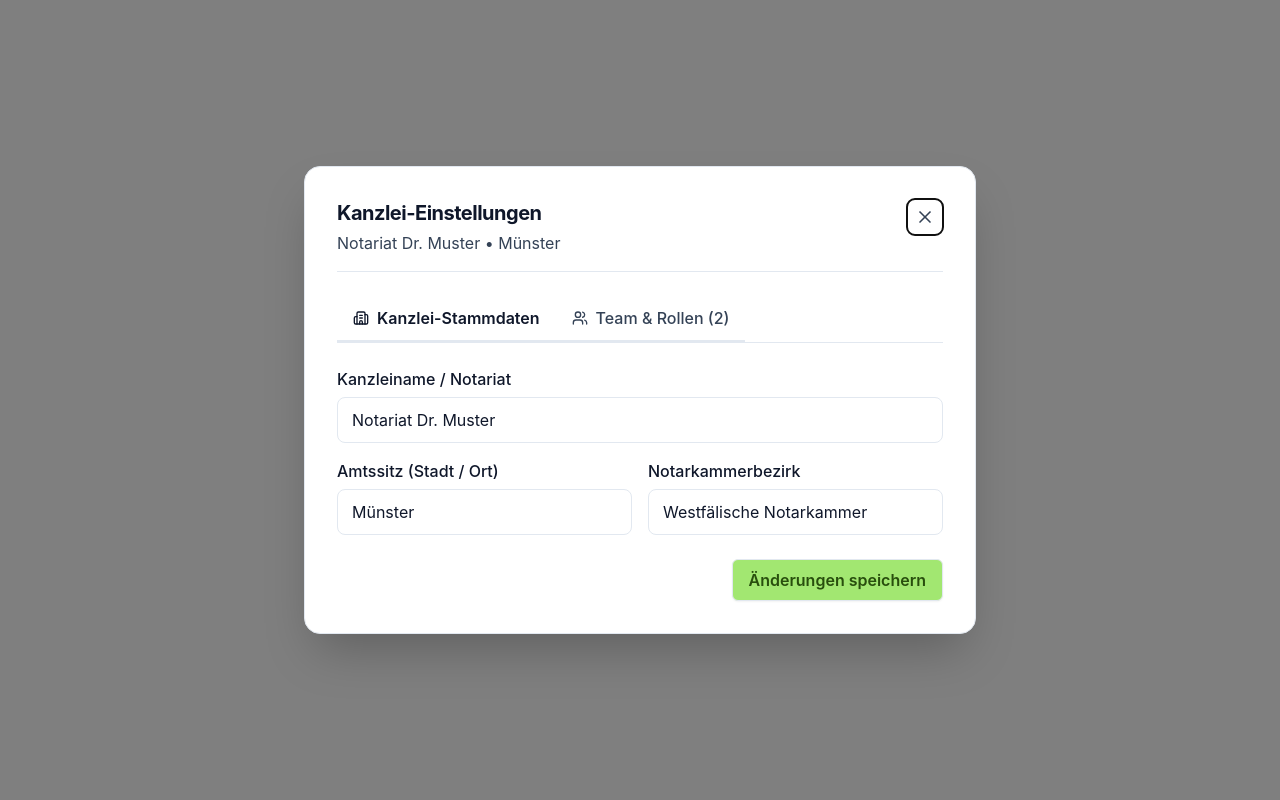
Test: TeamSettingsModal › switches to Team & Rollen tab and displays members
Click the button "Team & Rollen (2)". click: (651, 319)
box: [556,296,746,342]
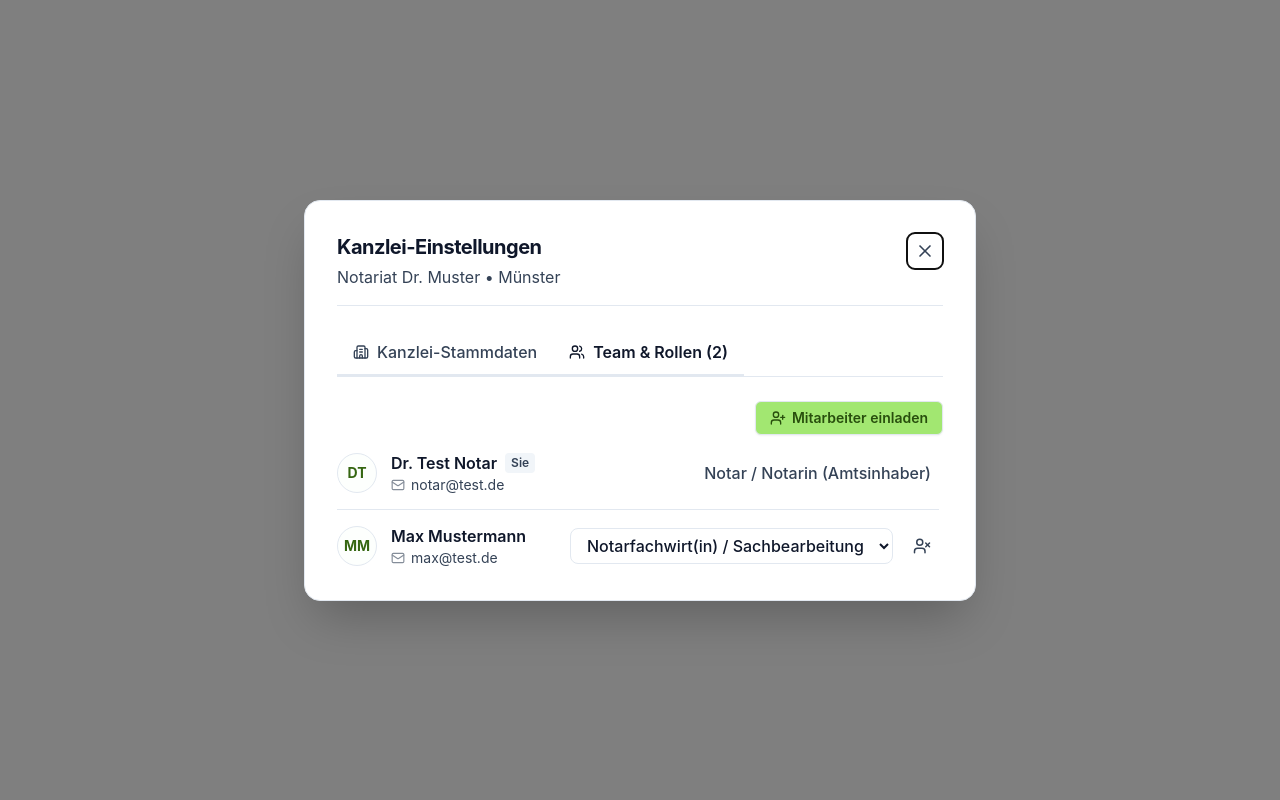
Result: the text "Max Mustermann" is shown at [391,524,526,548]
Result: the text "max@test.de" is shown at [411,548,498,568]
Result: the button "Mitarbeiter einladen" is shown at [755,400,943,434]
